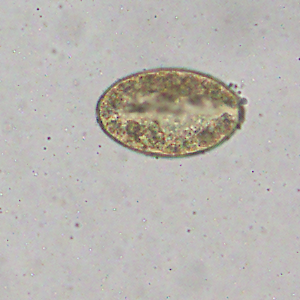Fasciola_hepatica_egg: (93, 65, 245, 158)
